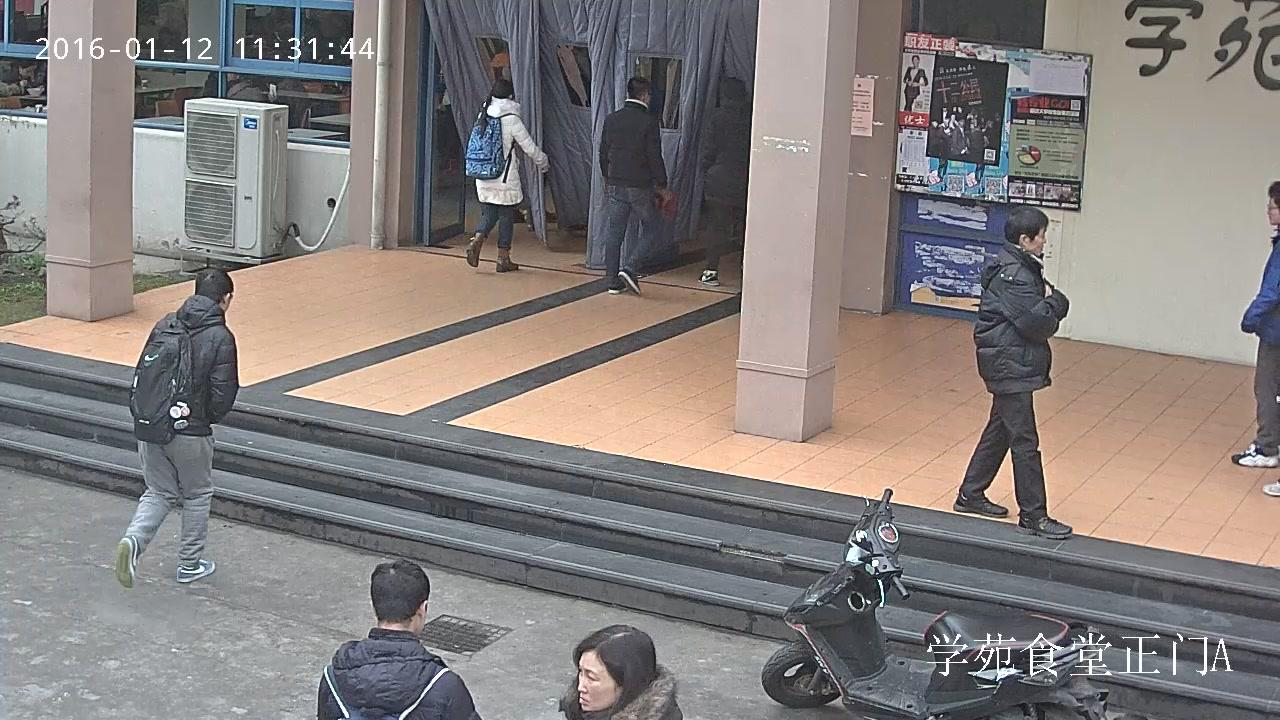person: (952, 205, 1074, 539), (117, 266, 241, 590), (314, 558, 483, 720), (597, 74, 682, 296), (463, 77, 550, 273), (1231, 181, 1280, 495), (695, 77, 753, 286), (0, 56, 45, 100), (901, 54, 928, 113)
